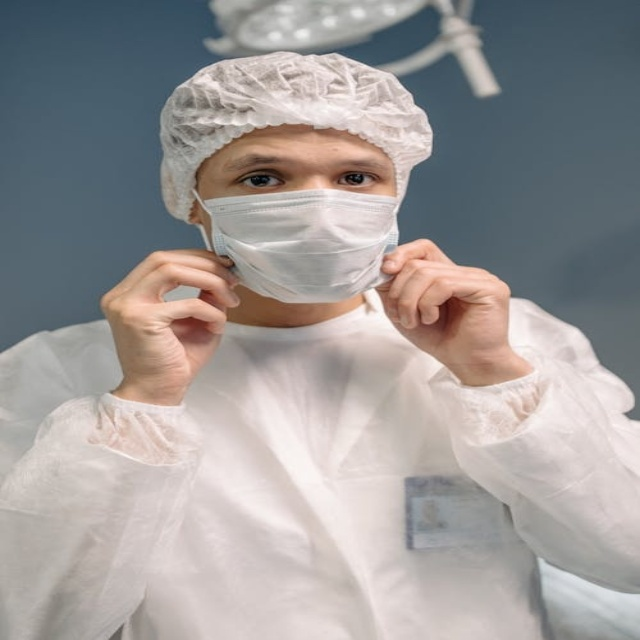Mascara: (192, 188, 403, 307)
Sin_gafas: (219, 150, 394, 192)
Sin_guantes: (370, 236, 519, 374), (97, 250, 239, 384)
